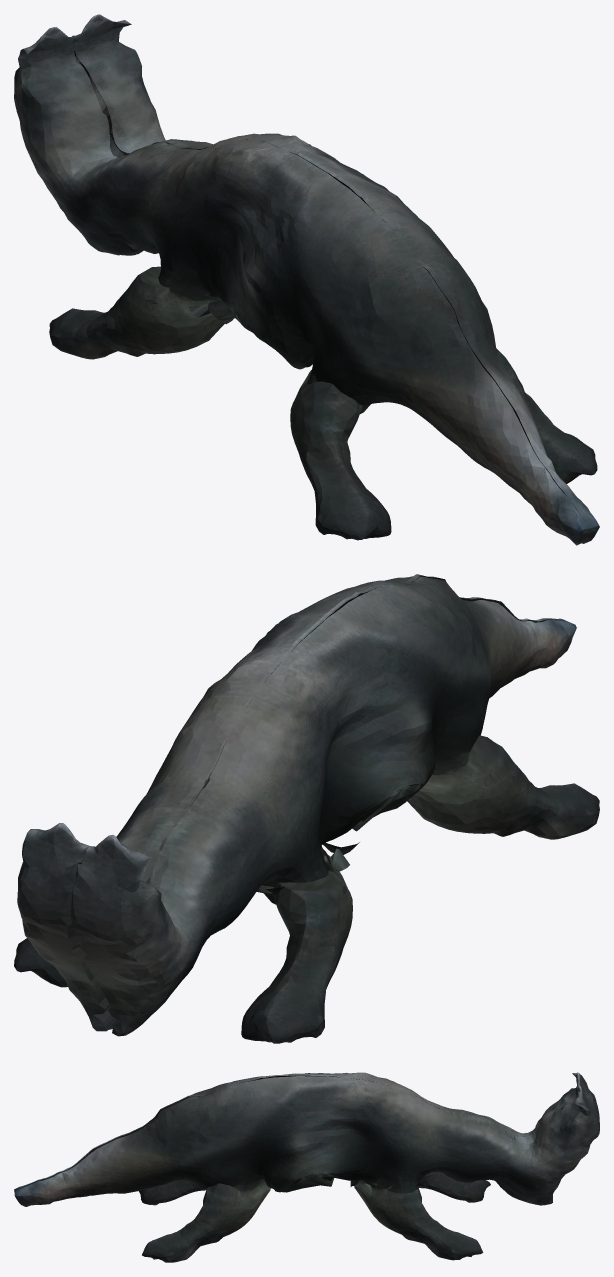
3 views of the same model, one above another, from view 1: azimuth 30°, elevation 25°; view 2: azimuth 150°, elevation 25°; view 3: azimuth 270°, elevation 25° (orthographic). The views are drawn at different scales.
Parts seen in each view (by area): view 1: Mesh_0.061; view 2: Mesh_0.061; view 3: Mesh_0.061.
Boxes of the visible parts, left/top/right/bottom form: Mesh_0.061: left=14, top=14, right=599, bottom=545; Mesh_0.061: left=14, top=574, right=599, bottom=1043; Mesh_0.061: left=14, top=1072, right=599, bottom=1262.
Bounding box in the file's own units: 0.3577 × 0.3013 × 1.06.
Materials: 1 (1 with a texture image).
